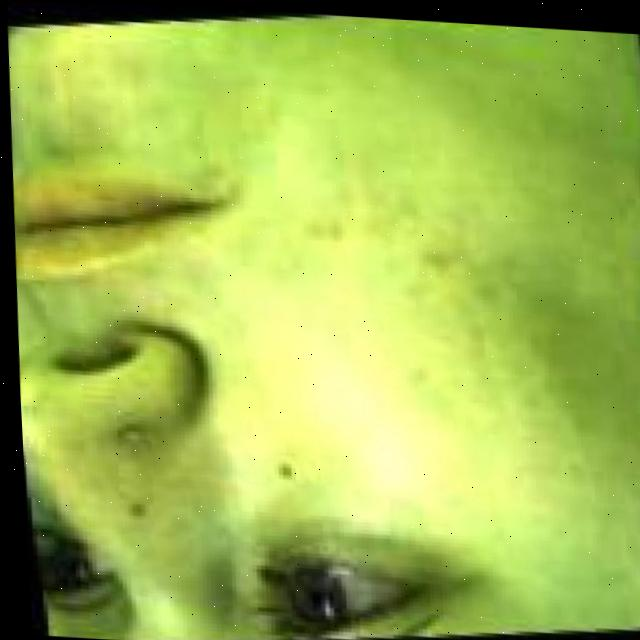Acne: (299, 156, 459, 290)
